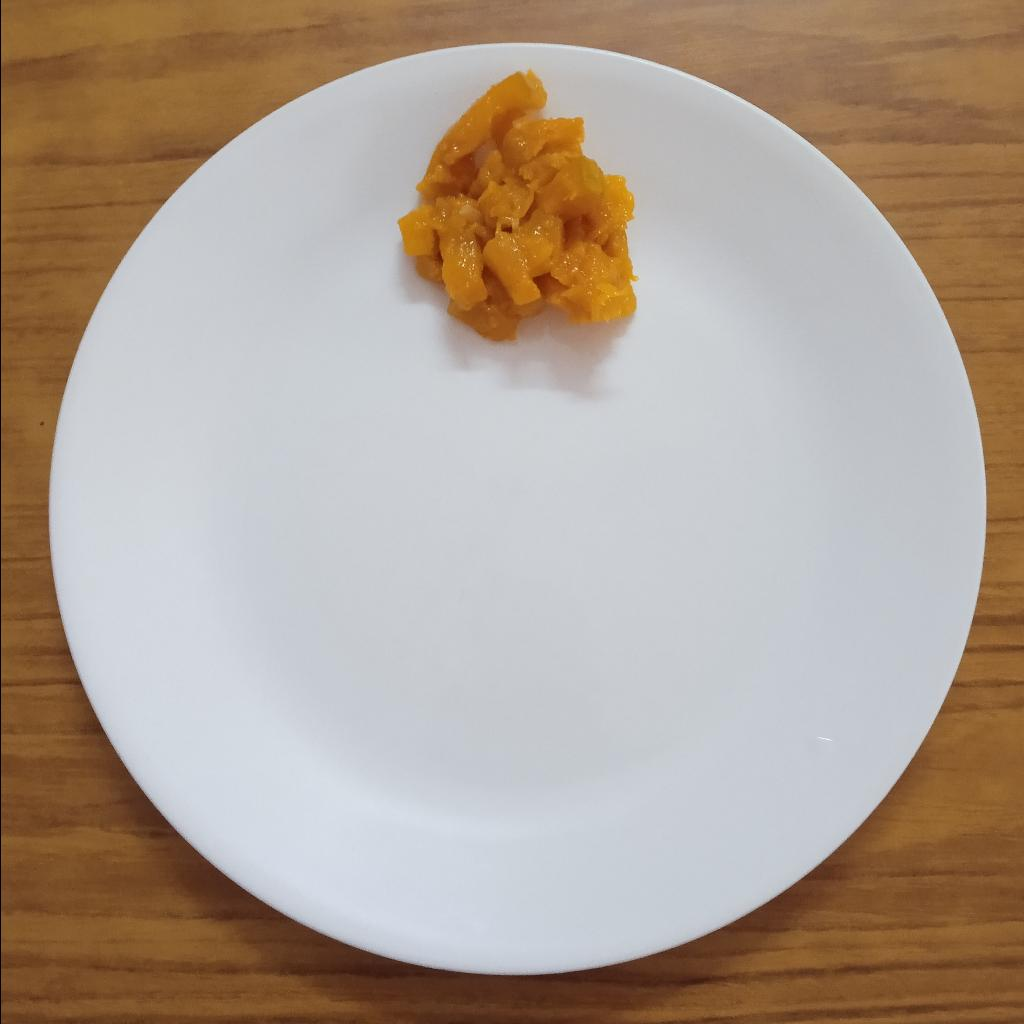kumra-vaji: (396, 65, 639, 343)
